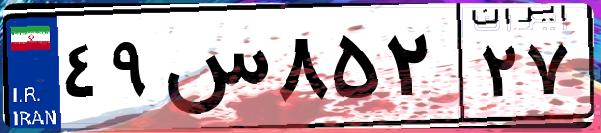2: (385, 28, 445, 110), (475, 38, 525, 113)
4: (57, 26, 110, 100)
5: (330, 28, 385, 110)
7: (525, 38, 570, 115)
8: (270, 28, 330, 110)
9: (110, 28, 158, 98)
س: (158, 20, 270, 120)
